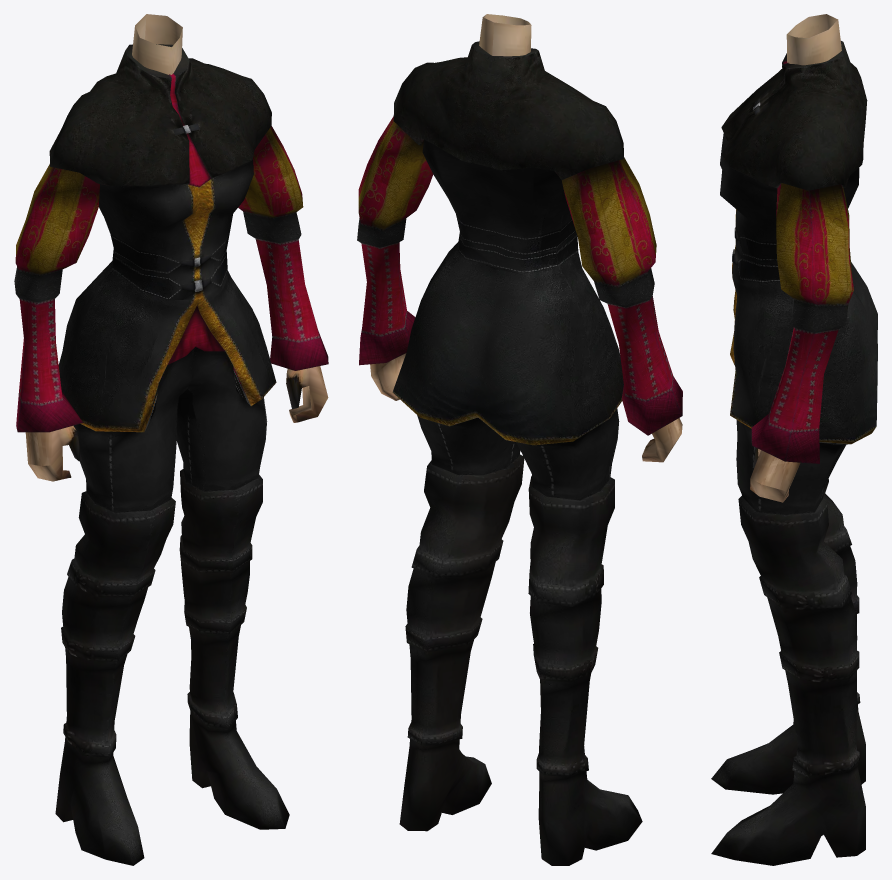
File: STROJ_KOBIECY_CZERWONY_01.glb
3 renders of one model, left to right at view 1: azimuth 30°, elevation 25°; view 2: azimuth 150°, elevation 25°; view 3: azimuth 270°, elevation 25°, orthographic. The views are drawn at different scales.
Visible parts, largest first — view 1: STROJ_KOBIECY_CZERWONY_01; view 2: STROJ_KOBIECY_CZERWONY_01; view 3: STROJ_KOBIECY_CZERWONY_01.
Boxes of the visible parts, <box> form: STROJ_KOBIECY_CZERWONY_01: <box>14,14,328,865</box>; STROJ_KOBIECY_CZERWONY_01: <box>357,14,682,865</box>; STROJ_KOBIECY_CZERWONY_01: <box>711,14,877,865</box>.
Size of the model in its own units: 0.6925 by 1.68 by 0.3182.
Materials: 2 (2 with a texture image).
